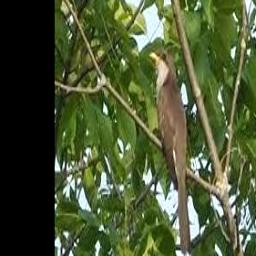Cuckoo: (148, 49, 191, 253)
